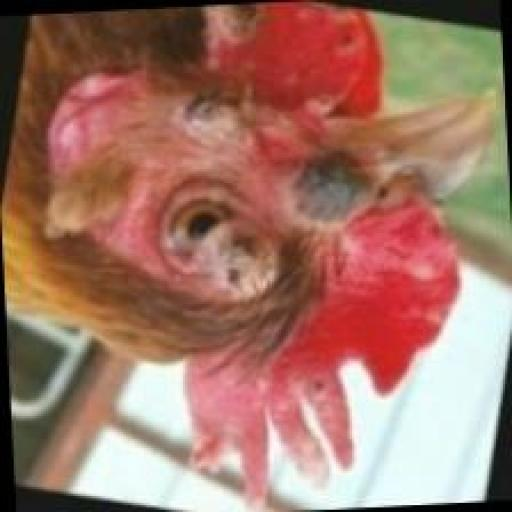disease: (222, 0, 404, 128), (156, 212, 322, 321), (247, 359, 373, 477), (276, 147, 406, 251), (157, 62, 257, 177)
